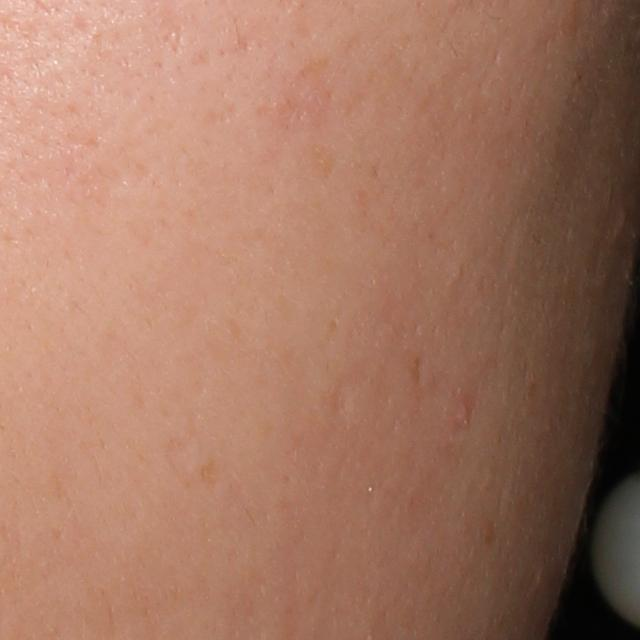papule: (450, 396, 473, 429)
